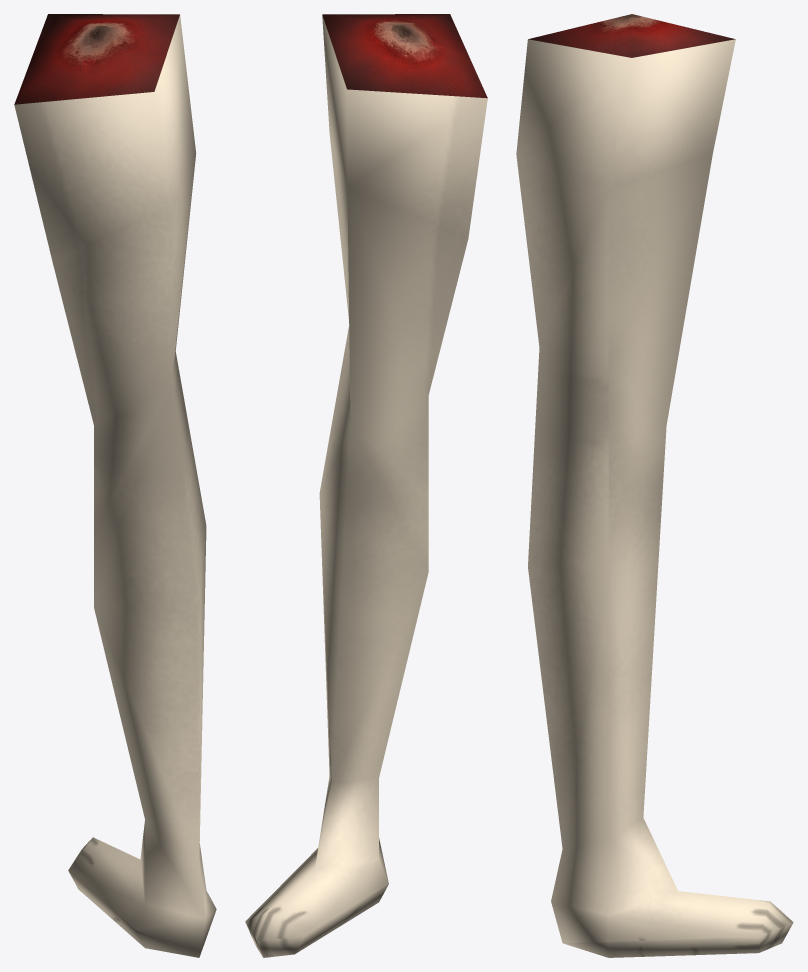
The model's file is HumanoidRightLeg.fbx.
The picture shows the model from 3 angles, left to right: view 1: azimuth 30°, elevation 25°; view 2: azimuth 150°, elevation 25°; view 3: azimuth 270°, elevation 25°; orthographic projection. The views are drawn at different scales.
Parts seen in each view (by area): view 1: RightLeg; view 2: RightLeg; view 3: RightLeg.
Boxes of the visible parts, bbox=[...] form: RightLeg: bbox=[14, 14, 216, 957]; RightLeg: bbox=[245, 14, 487, 957]; RightLeg: bbox=[516, 14, 793, 957].
Bounding box in the file's own units: 18.87 × 85.88 × 24.
